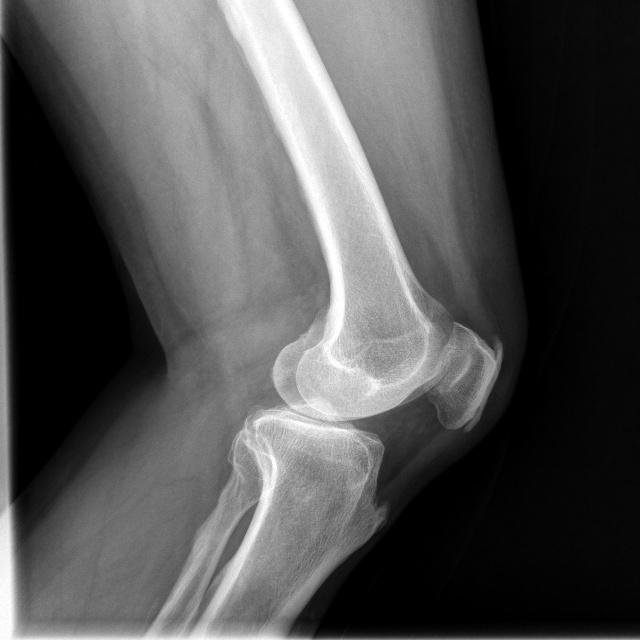Knee: (228, 308, 501, 498)
